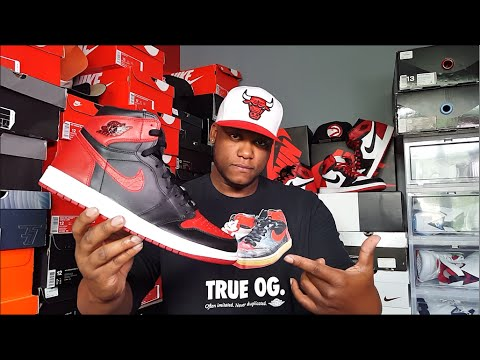Air Jordan 1 Bred: (34, 92, 248, 275)
